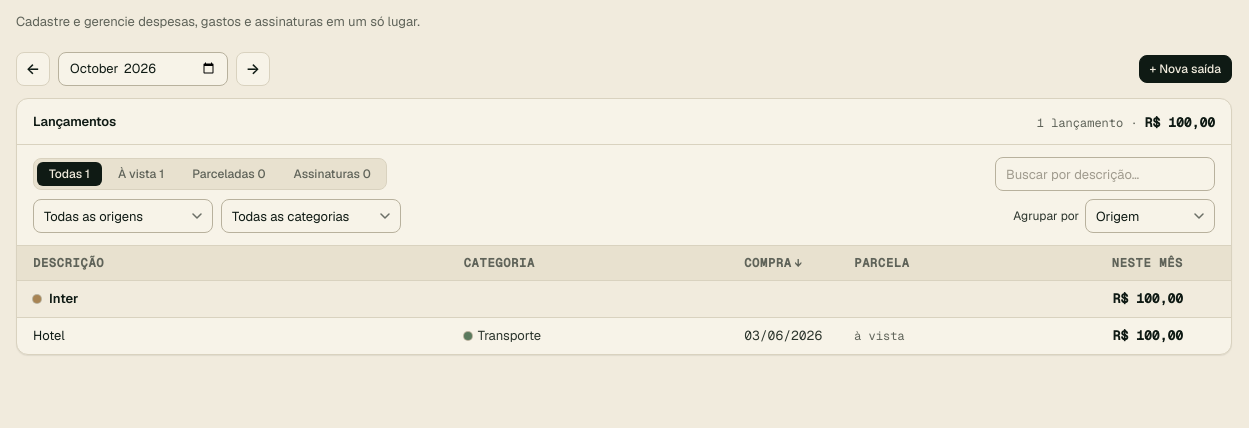
Scenario: SaidasPage — filtros (RF-DES-23) › o filtro sobrevive à troca de mês e continua visível no select
Expected: the row "Hotel Transporte 03/06/2026 à vista R$ 100,00" is shown, [17, 317, 1231, 354]
Select "Transporte" in the dropdown named "Filtrar por categoria" at [311, 216], box [221, 199, 401, 233]
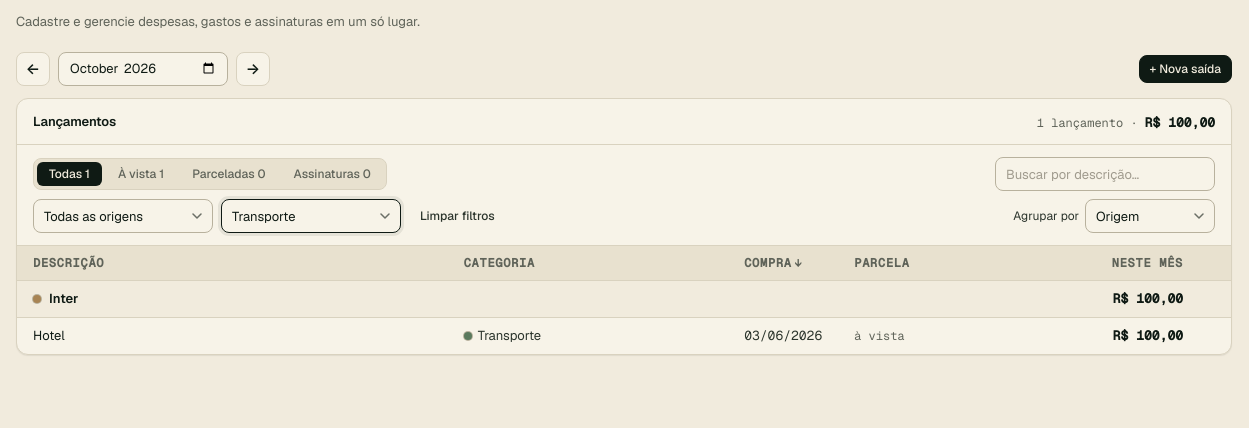
Click the button named "Próximo mês" at [253, 68], box [236, 52, 270, 86]
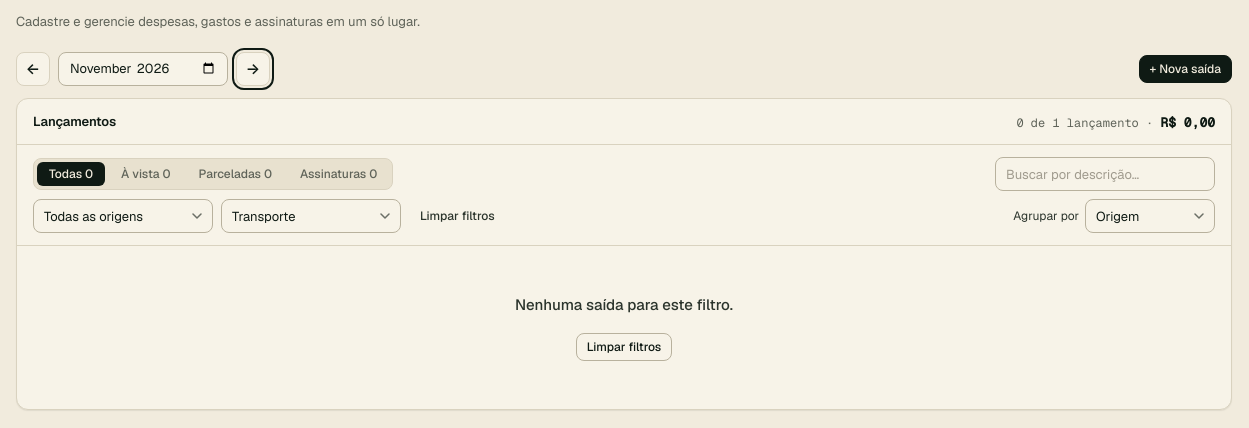
Expected: the text "Nenhuma saída para este filtro." is shown, [515, 294, 733, 316]
